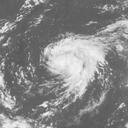cyclone: (39, 35, 104, 91)
